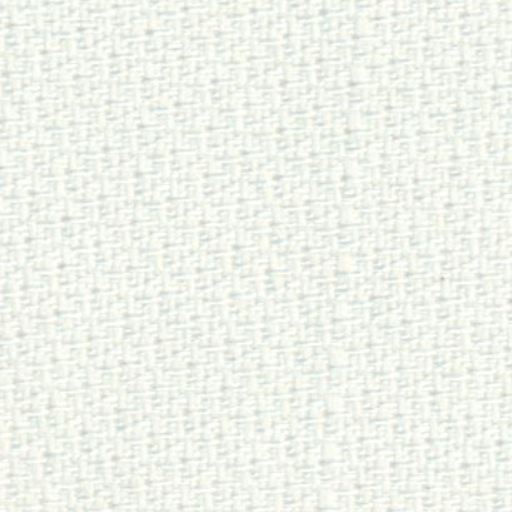TuoSha: (308, 15, 392, 503)
